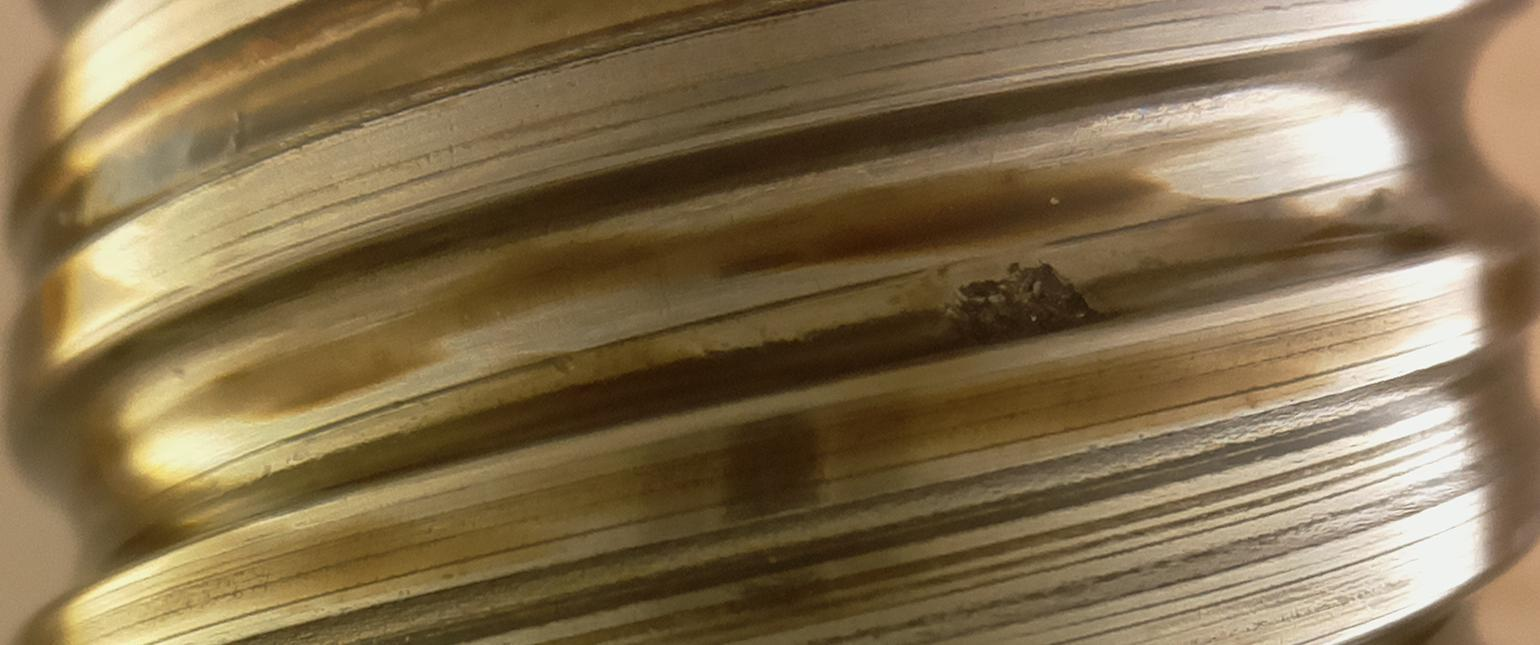pitting: (943, 263, 1116, 346)
